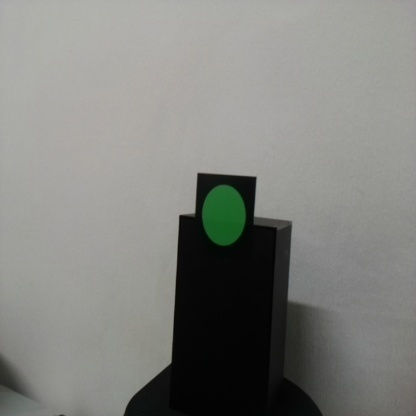id_5: (197, 174, 256, 261)
